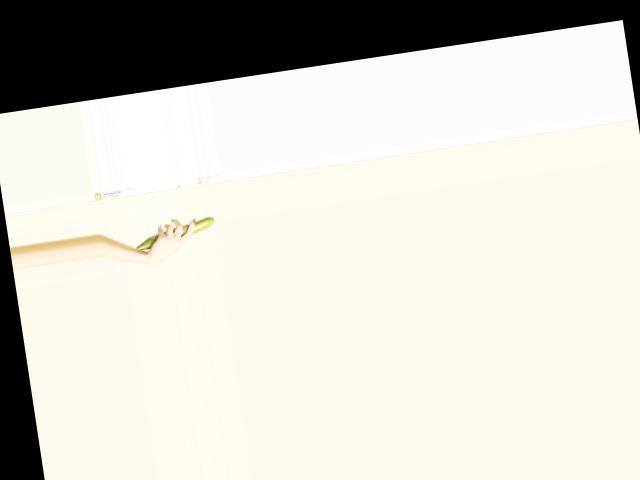cucumber: (132, 215, 216, 250)
